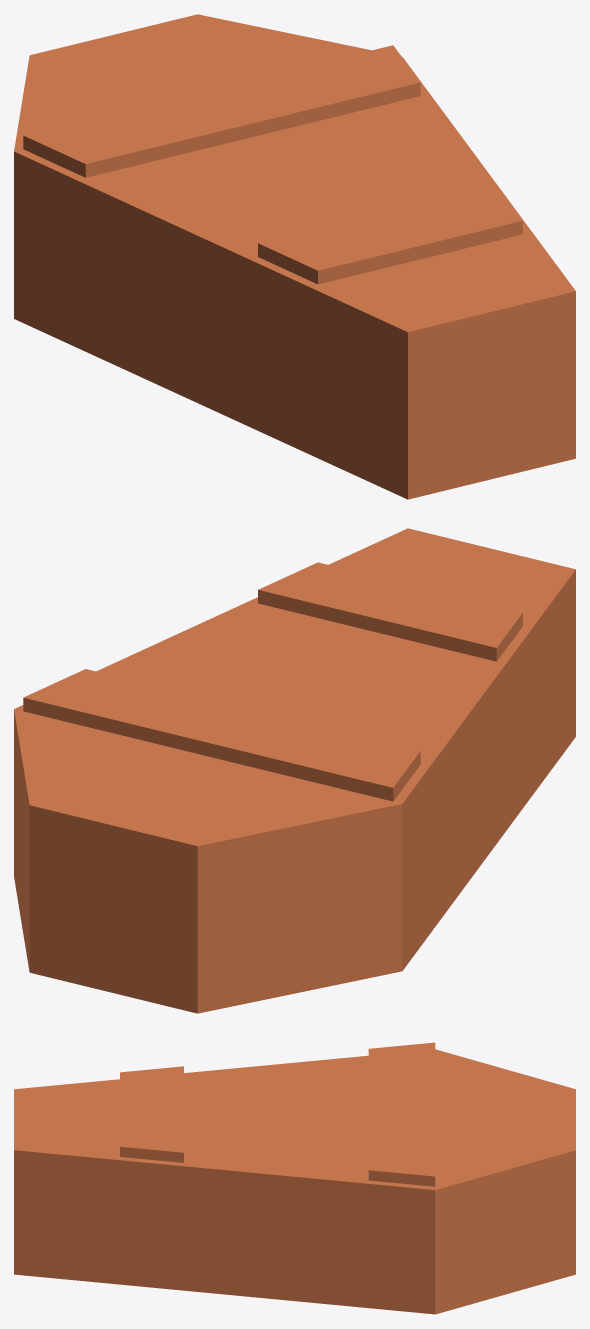
The model's file is coffin.obj.
3 renders of one model, top to bottom at view 1: azimuth 30°, elevation 25°; view 2: azimuth 150°, elevation 25°; view 3: azimuth 270°, elevation 25°, orthographic. The views are drawn at different scales.
Parts seen in each view (by area): view 1: lid, coffin; view 2: lid, coffin; view 3: lid, coffin.
Part boxes in pixels (<box>): lid: <box>14,14,575,358</box>; coffin: <box>14,178,575,499</box>; lid: <box>14,528,575,872</box>; coffin: <box>14,596,575,1013</box>; lid: <box>14,1042,575,1209</box>; coffin: <box>14,1170,575,1314</box>.
Size of the model in its own units: 0.5928 by 0.2642 by 1.
